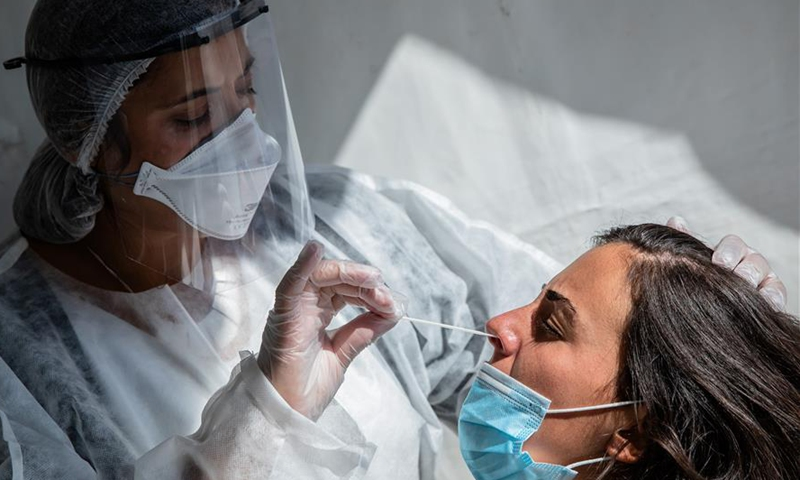Face_Shield: (109, 1, 315, 286)
Gloves: (264, 234, 412, 422)
mask_weared_incorrect: (447, 270, 605, 480)
with_mask: (151, 74, 286, 252)
